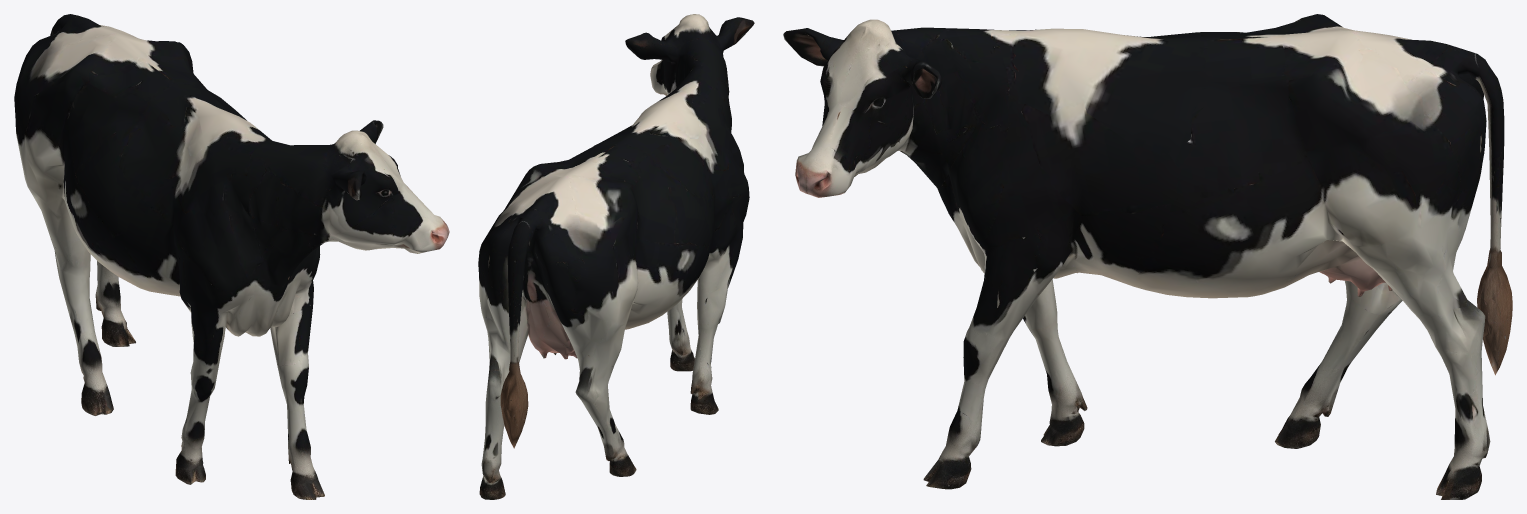
Rendered from holstein-cow-lite.glb.
3 views of the same model, side by side, from view 1: azimuth 30°, elevation 25°; view 2: azimuth 150°, elevation 25°; view 3: azimuth 270°, elevation 25° (orthographic). The views are drawn at different scales.
Size of the model in its own units: 0.7639 by 1.36 by 1.9.
Materials: 1 (1 with a texture image).
